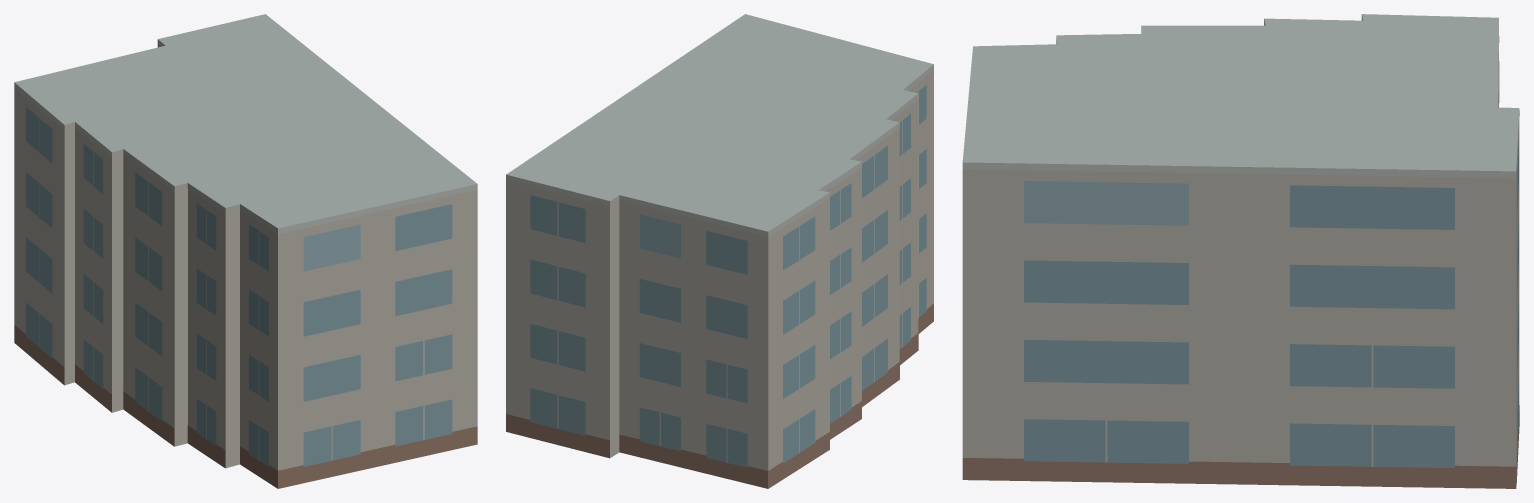
File: survey-upis-32688173.glb
3 views of the same model, side by side, from view 1: azimuth 30°, elevation 25°; view 2: azimuth 150°, elevation 25°; view 3: azimuth 270°, elevation 25° (orthographic). The views are drawn at different scales.
Parts seen in each view (by area): view 1: survey-upis-32688173.tmp; view 2: survey-upis-32688173.tmp; view 3: survey-upis-32688173.tmp.
Part boxes in pixels (x1,y1,x2,y2): survey-upis-32688173.tmp: (14, 14, 477, 488); survey-upis-32688173.tmp: (506, 14, 933, 488); survey-upis-32688173.tmp: (962, 14, 1519, 488).
Bounding box in the file's own units: 11.91 × 11.2 × 17.81.
